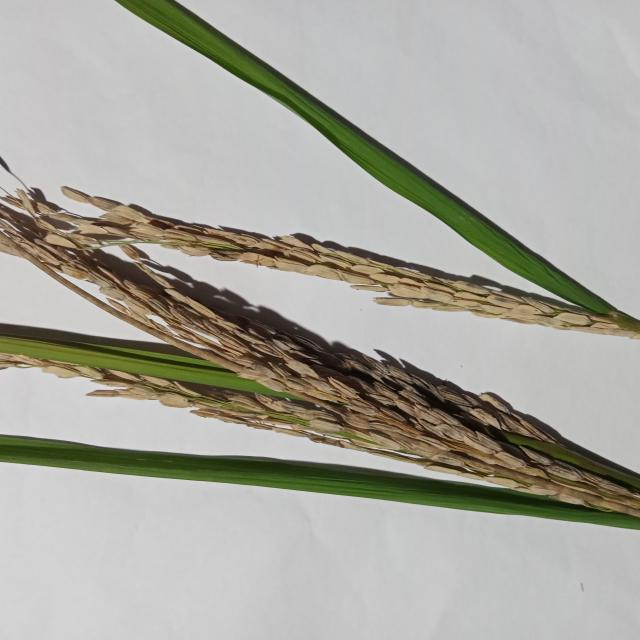Neck_Blast: (0, 177, 640, 528), (72, 197, 630, 343)
